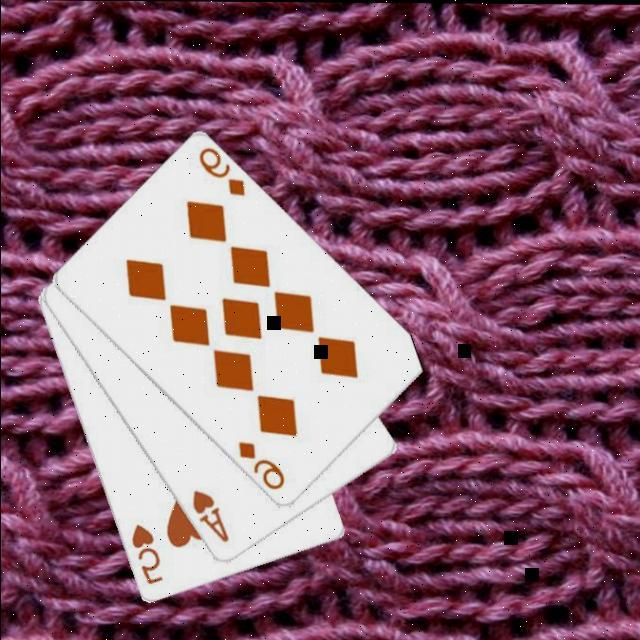5H: (126, 520, 164, 586)
9D: (232, 438, 286, 492), (193, 144, 246, 199)
AH: (186, 485, 230, 544)
